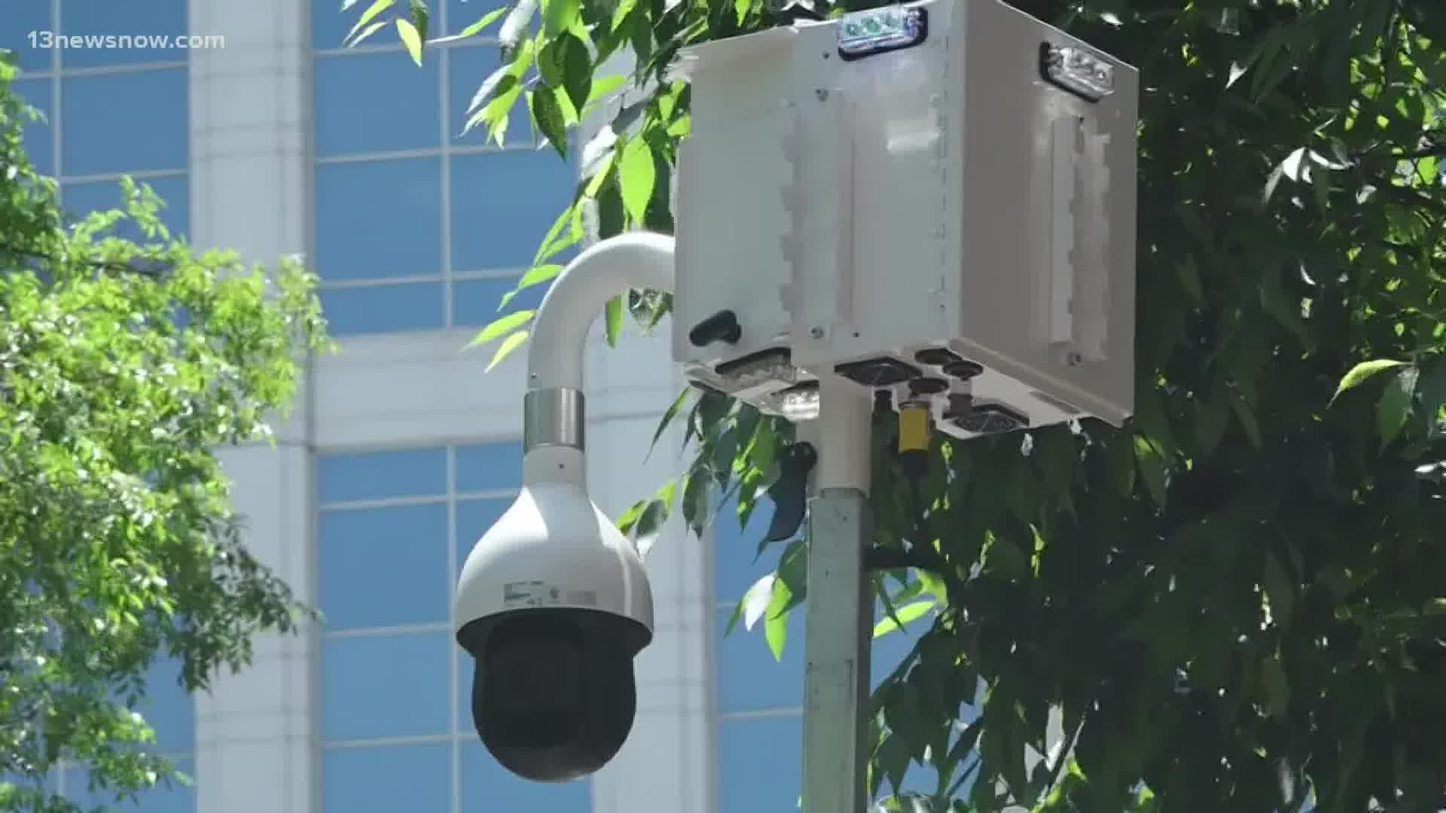camera: (414, 454, 700, 793)
